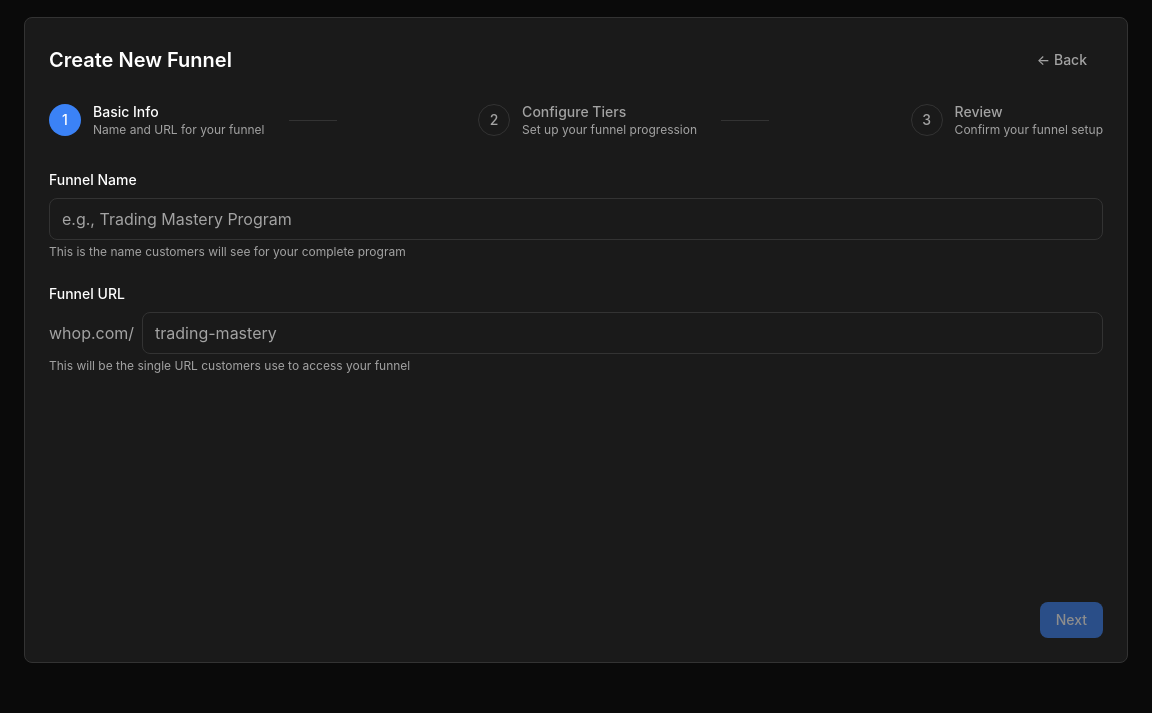
Test: FunnelWizard Component › shows review screen in step 3
// Navigate through steps
Type "Test Funnel" into the field with placeholder "e.g., Trading Mastery Program" at (576, 219), box x1=49 y1=198 x2=1103 y2=240
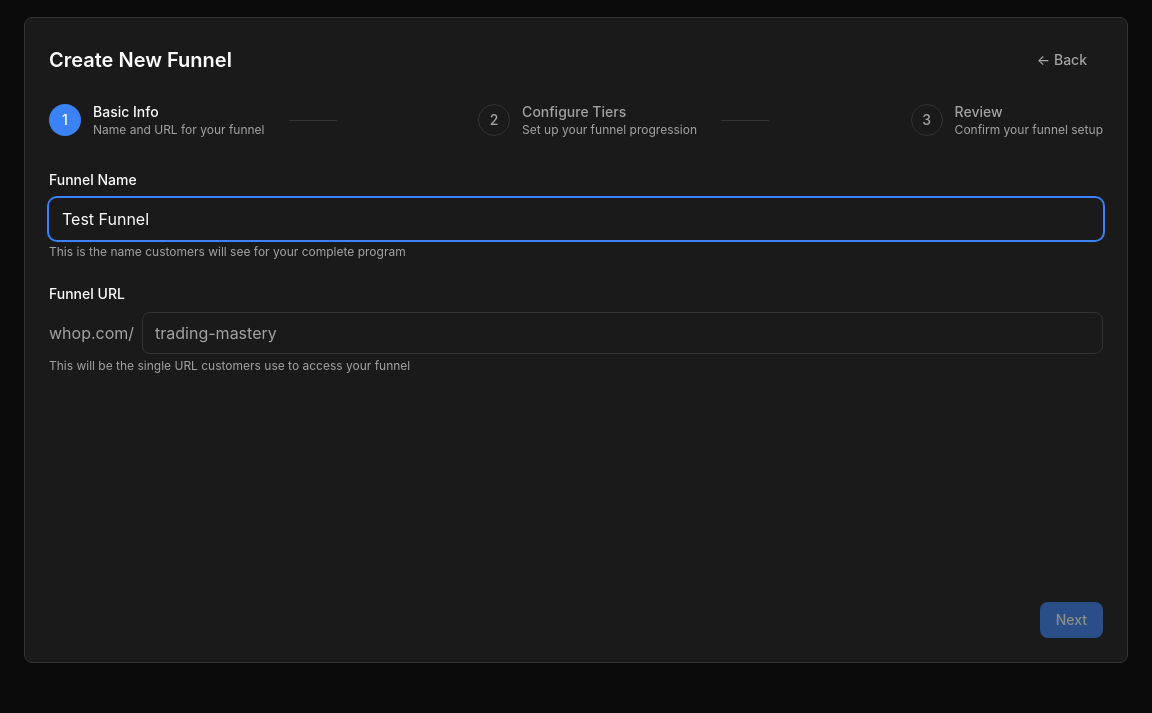
Type "test-funnel" into the field with placeholder "trading-mastery" at (623, 333), box x1=142 y1=312 x2=1103 y2=354
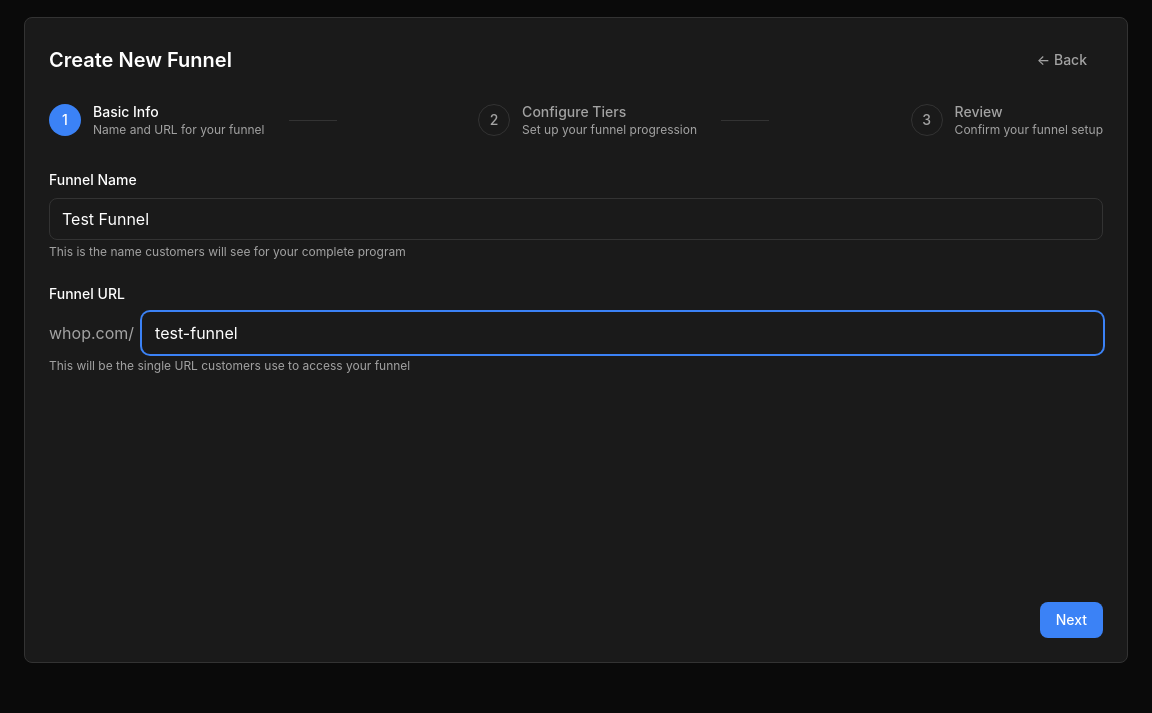
Click the button "Next" at (1071, 620), box x1=1040 y1=602 x2=1103 y2=638
(page scrolled)
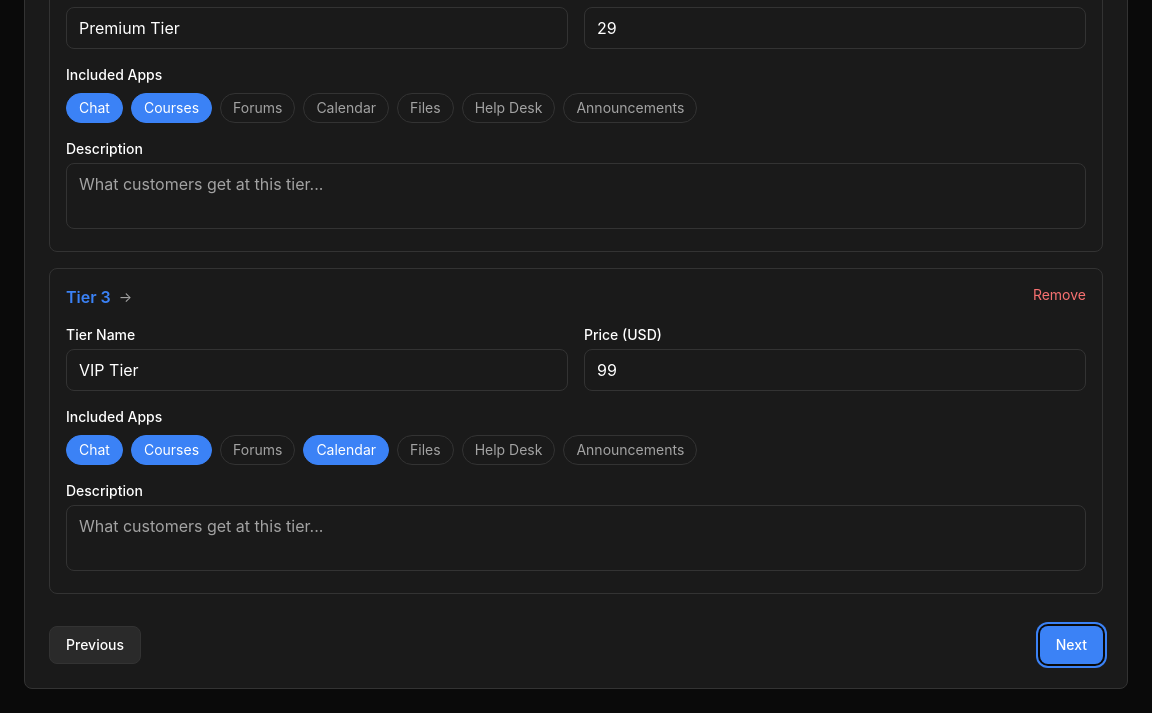
Click the button "Next" at (1071, 645), box x1=1040 y1=626 x2=1103 y2=664
(page scrolled)
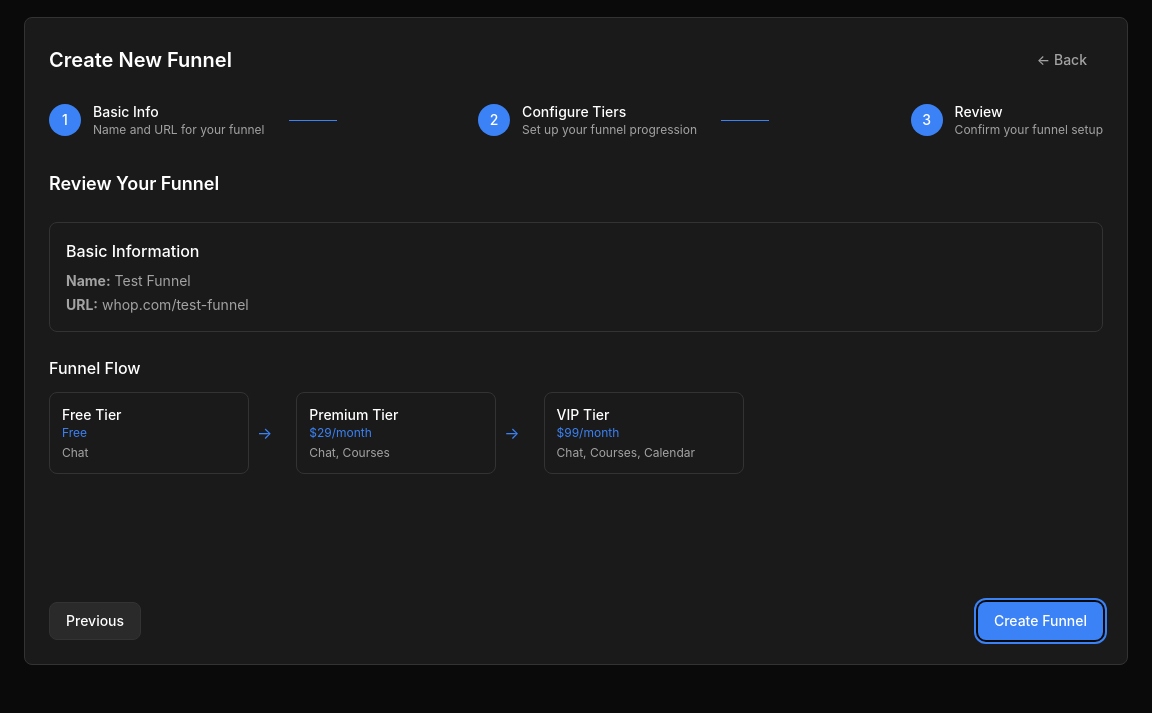
Expected: the heading "Review Your Funnel" is shown, x1=49 y1=173 x2=219 y2=194
Expected: the text "Test Funnel" is shown, x1=114 y1=272 x2=191 y2=289
Expected: the text "whop.com/test-funnel" is shown, x1=66 y1=296 x2=249 y2=313
